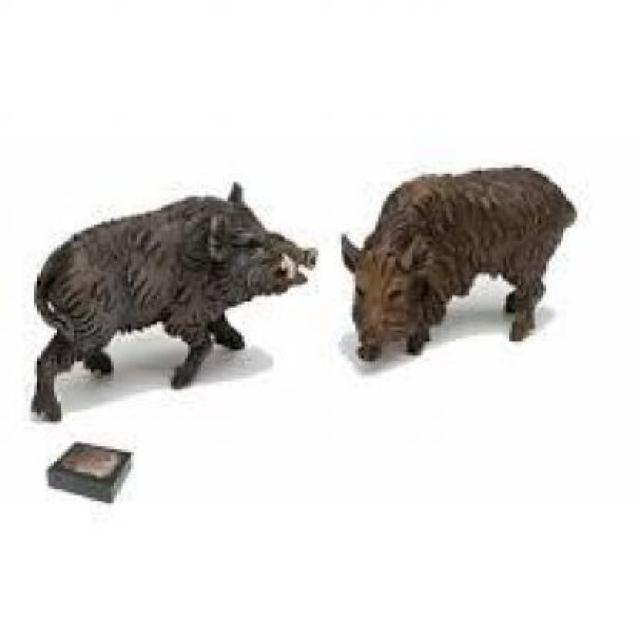wildboar: (24, 175, 325, 431), (337, 158, 586, 370)
